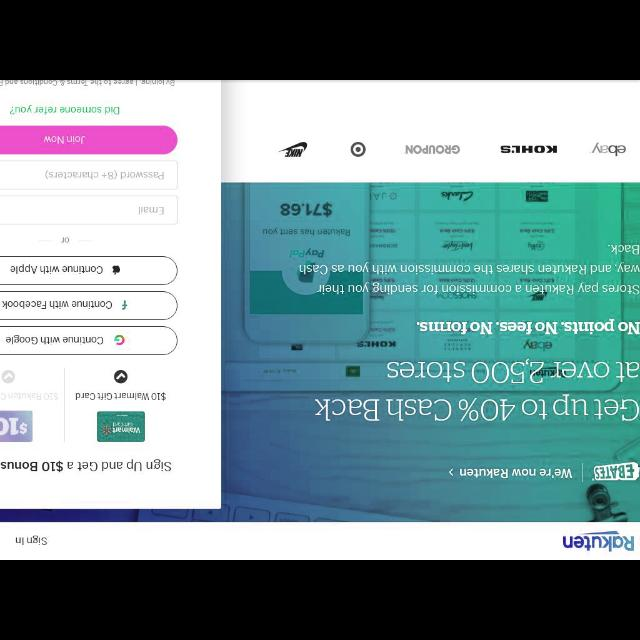icon: (1, 370, 16, 384)
image: (222, 81, 640, 522), (561, 531, 637, 553), (96, 411, 146, 443), (1, 408, 34, 442), (114, 371, 128, 384), (114, 334, 126, 346), (110, 265, 122, 275), (120, 300, 128, 310)
input: (1, 160, 178, 190), (2, 196, 178, 224)
text: (0, 461, 172, 474), (1, 82, 178, 90), (10, 104, 122, 116), (46, 170, 166, 180), (74, 392, 166, 401), (1, 392, 62, 402), (13, 534, 49, 548), (138, 205, 164, 217), (62, 236, 70, 244)
textbutton: (1, 326, 177, 356), (1, 256, 177, 286), (1, 292, 179, 321), (1, 126, 177, 154)
